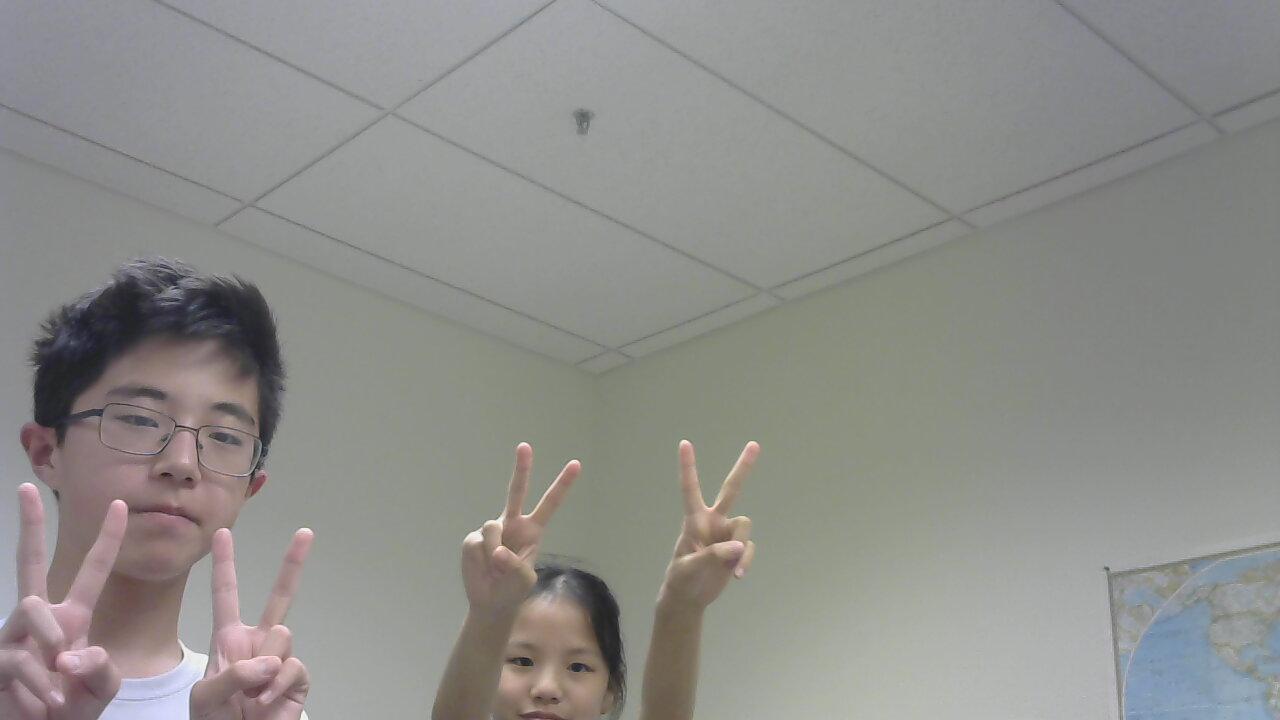peace: (0, 481, 147, 714), (183, 524, 326, 720), (436, 429, 569, 629), (656, 437, 797, 623)
